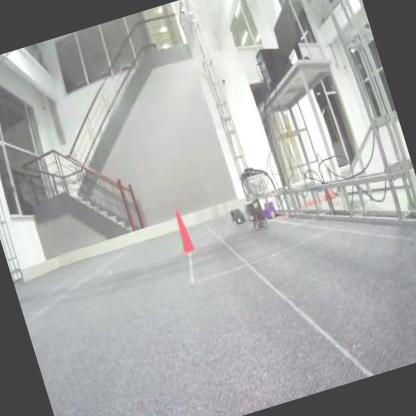cone: (171, 206, 193, 250)
